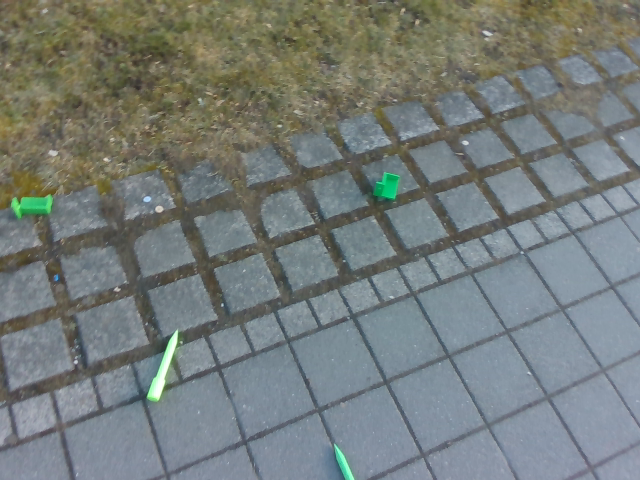Probe: (143, 321, 183, 405), (328, 439, 362, 480)
